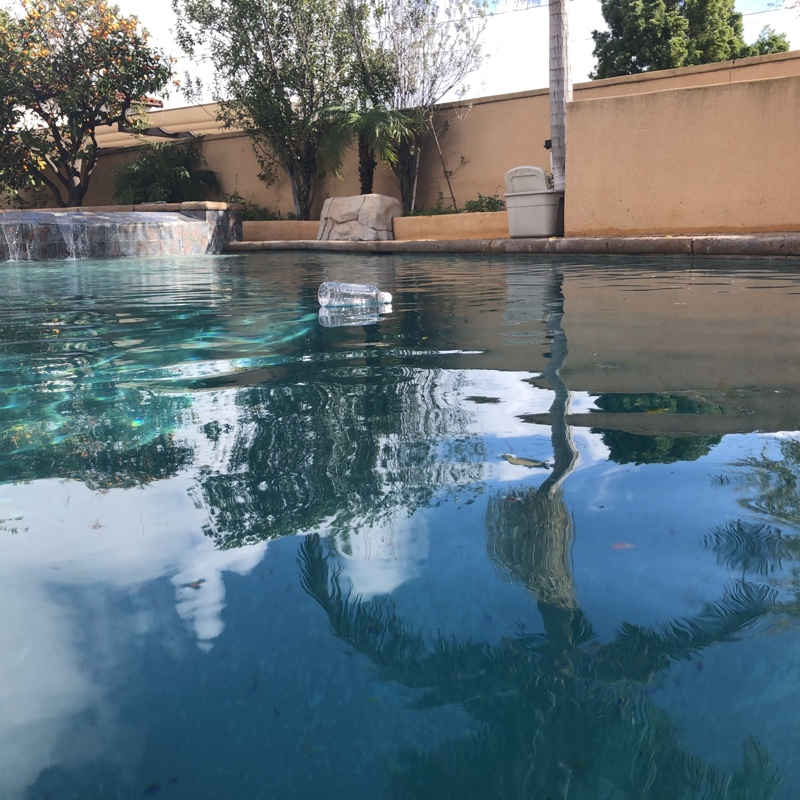Plastic Bottle: (315, 281, 394, 312)
